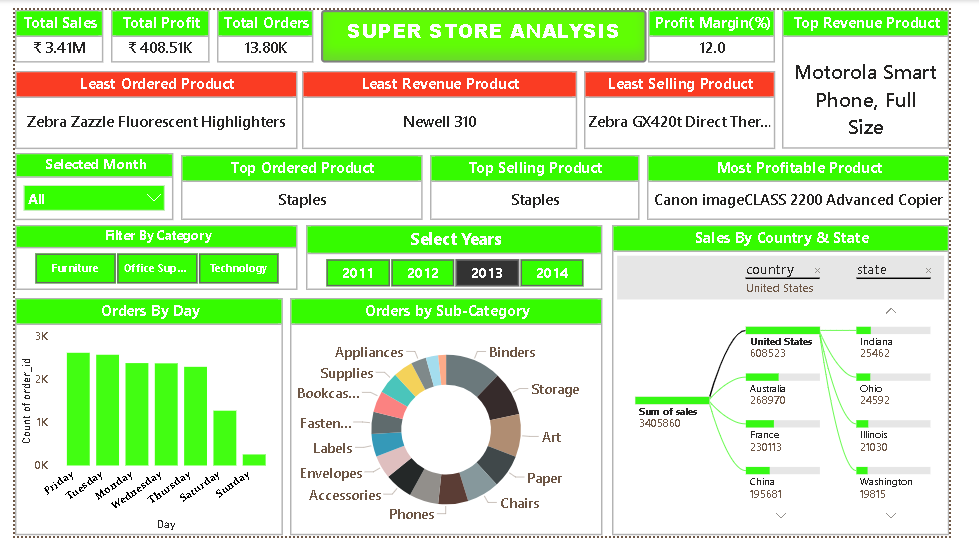

The dashboard page shown, as its layout file describes it:
{"tool":"powerbi","page":{"name":"Page 1","canvas":[1280,720],"ordinal":0},"visuals":[{"type":"card","title":"Total Sales","fields":{"Values":["SuperStoreOrders.Total_sales"]},"box":[0,0,121,72],"z":0},{"type":"card","title":"Total Profit","fields":{"Values":["SuperStoreOrders.Total_profit"]},"box":[131,0,135.4,72],"z":1000},{"type":"card","title":"Profit Margin(%)","fields":{"Values":["SuperStoreOrders.Profit_margin"]},"box":[866.9,0,174.2,72],"z":2000},{"type":"card","title":"Total Orders","fields":{"Values":["SuperStoreOrders.Total_orders"]},"box":[276.5,0,132.5,72],"z":3000},{"type":"card","title":"Least Selling Product","fields":{"Values":["SuperStoreOrders.Least_selling_product"]},"box":[779.5,83.6,261.6,106.8],"z":4000},{"type":"card","title":"Top Selling Product","fields":{"Values":["SuperStoreOrders.Top_selling_product"]},"box":[568.8,198.7,286.6,89.3],"z":5000},{"type":"card","title":"Top Revenue Product","fields":{"Values":["SuperStoreOrders.Top_revenue_product"]},"box":[1051.2,0,229,190.1],"z":6000},{"type":"card","title":"Least Revenue Product","fields":{"Values":["SuperStoreOrders.Least_revenue_product"]},"box":[393.2,83.6,376.7,106.8],"z":7000},{"type":"card","title":"Most Profitable Product","fields":{"Values":["SuperStoreOrders.Most_profitable_product"]},"box":[865.4,198.7,414.7,89.3],"z":8000},{"type":"card","title":"Least Ordered Product","fields":{"Values":["SuperStoreOrders.least_ordered_product"]},"box":[0,83.5,387.4,106.6],"z":9000},{"type":"card","title":"Top Ordered Product","fields":{"Values":["SuperStoreOrders.Most_ordered_product"]},"box":[227.5,198.7,331.2,89.3],"z":10000},{"type":"slicer","title":"Selected Month","fields":{"Values":["SuperStoreOrders.Month"]},"box":[0,195.8,217.4,92.2],"z":11000},{"type":"slicer","title":"Select Years","fields":{"Values":["SuperStoreOrders.year"]},"box":[398.9,295.2,406.1,89.3],"z":12000},{"type":"columnChart","title":"Orders By Day","fields":{"Category":["SuperStoreOrders.Day"],"Y":["CountNonNull(SuperStoreOrders.order_id)"]},"box":[0,394.6,367.2,325.4],"z":13000},{"type":"slicer","title":"Filter By Category","fields":{"Values":["SuperStoreOrders.category"]},"box":[0,295.2,387.4,89.3],"z":14000},{"type":"textbox","box":[419,0,446.4,72],"z":15000},{"type":"decompositionTreeVisual","title":"Sales By Country & State","fields":{"ExplainBy":["SuperStoreOrders.country","SuperStoreOrders.state"],"Analyze":["Sum(SuperStoreOrders.sales)"]},"box":[817.9,295.2,462.2,424.8],"z":16000},{"type":"donutChart","title":"Orders by Sub-Category","fields":{"Category":["SuperStoreOrders.sub_category"],"Y":["CountNonNull(SuperStoreOrders.order_id)"]},"box":[377.3,394.6,427.7,325.4],"z":16001}]}

Visuals, with their boxes in screenshot pixels (x1, y1, x2, y2), scaled from the page's 1280x720 canvas onto the 979x550 screenshot:
"Total Sales" card: 0,0,93,55
"Total Profit" card: 100,0,204,55
"Profit Margin(%)" card: 663,0,796,55
"Total Orders" card: 211,0,313,55
"Least Selling Product" card: 596,64,796,145
"Top Selling Product" card: 435,152,654,220
"Top Revenue Product" card: 804,0,978,145
"Least Revenue Product" card: 301,64,589,145
"Most Profitable Product" card: 662,152,978,220
"Least Ordered Product" card: 0,64,296,145
"Top Ordered Product" card: 174,152,427,220
"Selected Month" slicer: 0,150,166,220
"Select Years" slicer: 305,225,616,294
"Orders By Day" columnChart: 0,301,281,549
"Filter By Category" slicer: 0,225,296,294
textbox: 320,0,662,55
"Sales By Country & State" decompositionTreeVisual: 626,225,978,549
"Orders by Sub-Category" donutChart: 289,301,616,549
